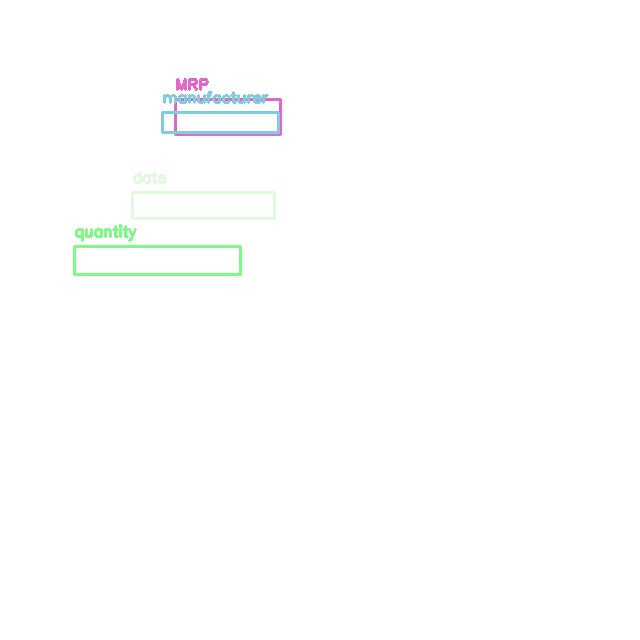MRP: (175, 99, 280, 134)
date: (132, 192, 274, 218)
manufacturer: (162, 112, 278, 132)
quantity: (74, 246, 240, 274)
